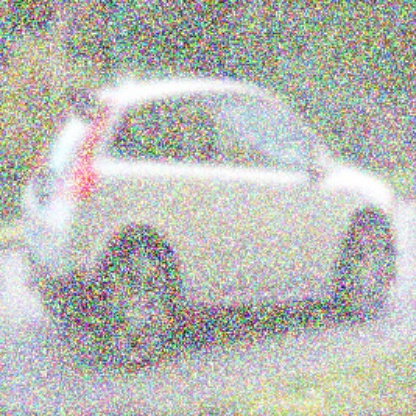Vehicle: (20, 82, 399, 369)
